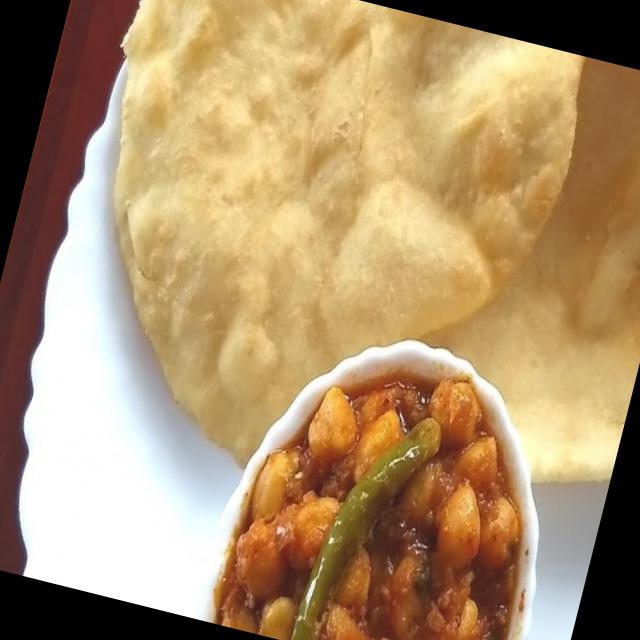Bhatura: (29, 0, 640, 553)
Chole: (218, 329, 566, 640)
